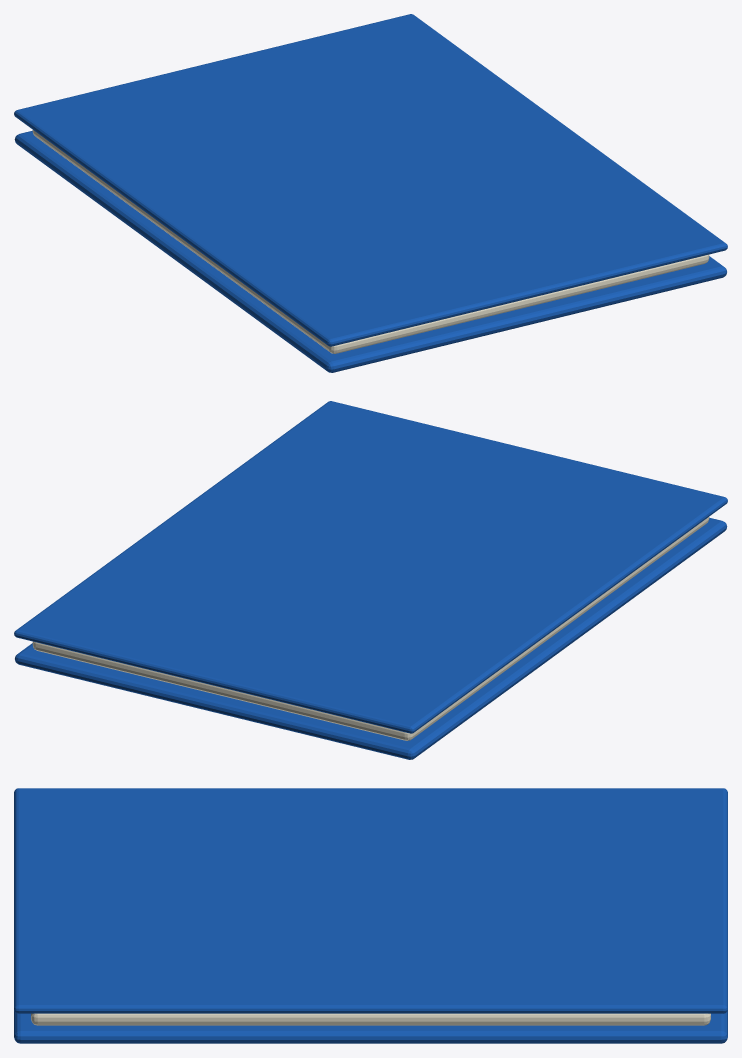
The model's file is Folio.fbx.
3 renders of one model, top to bottom at view 1: azimuth 30°, elevation 25°; view 2: azimuth 150°, elevation 25°; view 3: azimuth 270°, elevation 25°, orthographic. The views are drawn at different scales.
Visible parts, largest first — view 1: Front cover, Back cover, Thin paper stack; view 2: Front cover, Back cover, Thin paper stack; view 3: Front cover, Back cover, Thin paper stack.
Boxes of the visible parts, x1,y1,x2,y2 form: Front cover: [14, 14, 727, 346]; Back cover: [14, 130, 726, 372]; Thin paper stack: [32, 130, 709, 353]; Front cover: [14, 401, 727, 733]; Back cover: [15, 517, 727, 759]; Thin paper stack: [32, 517, 709, 740]; Front cover: [14, 788, 727, 1013]; Back cover: [14, 1010, 727, 1043]; Thin paper stack: [31, 1013, 710, 1025].
Bounding box in the file's own units: 0.23 × 0.019 × 0.315.
